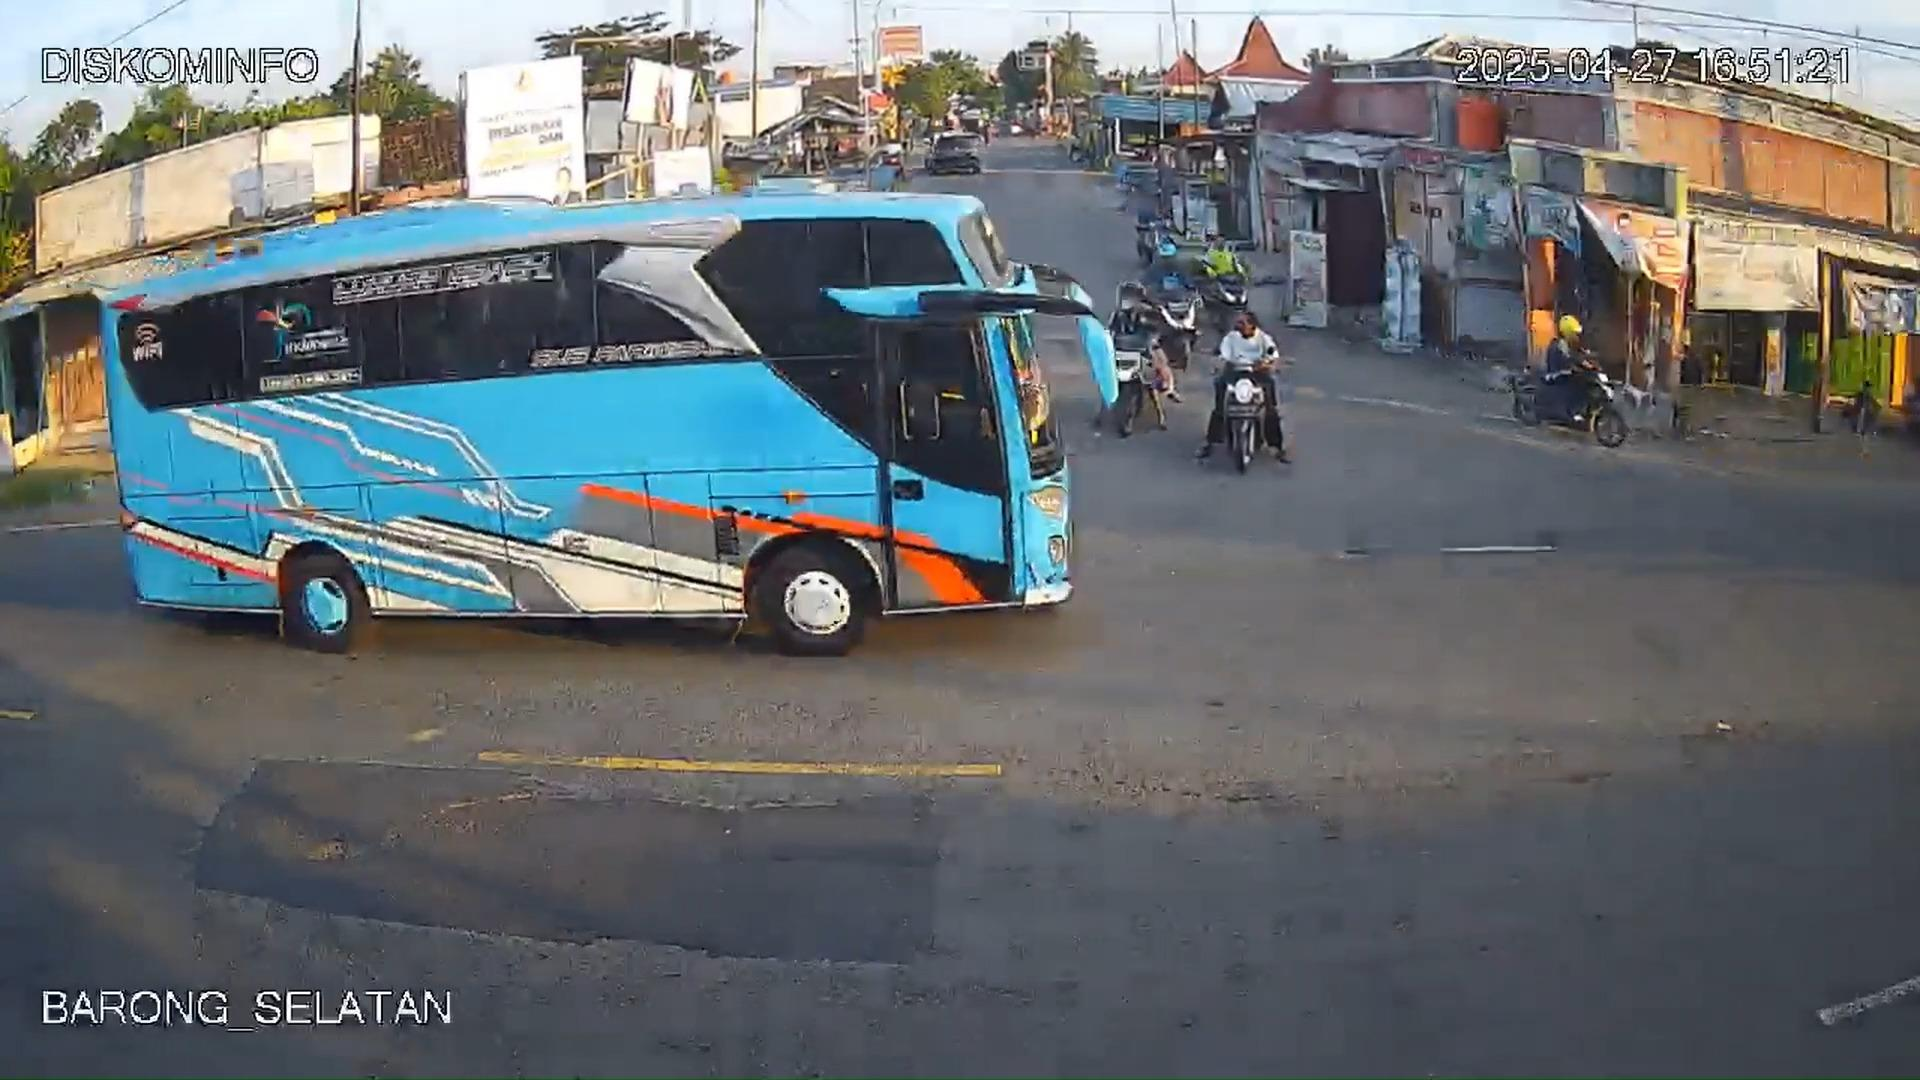Bus: (87, 198, 1088, 683)
Motor: (1495, 314, 1631, 454), (1106, 293, 1182, 438), (1209, 347, 1292, 472)
